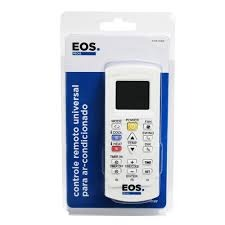remote control: (107, 66, 157, 198)
